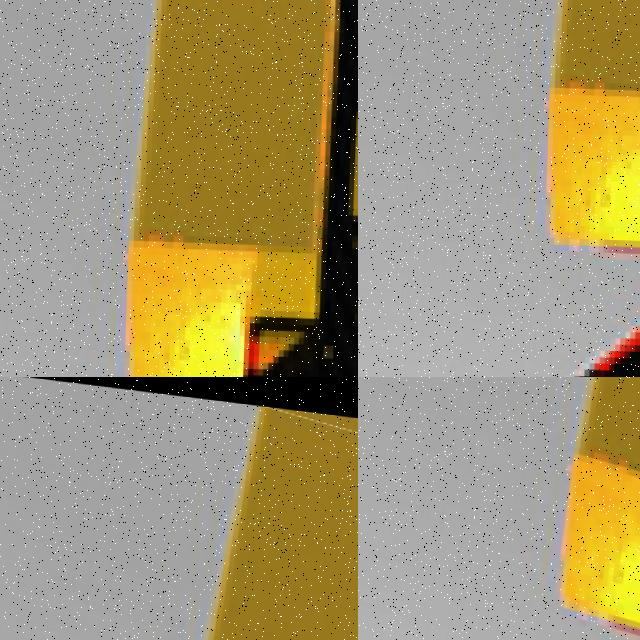drone: (0, 377, 358, 640), (358, 377, 640, 640)
